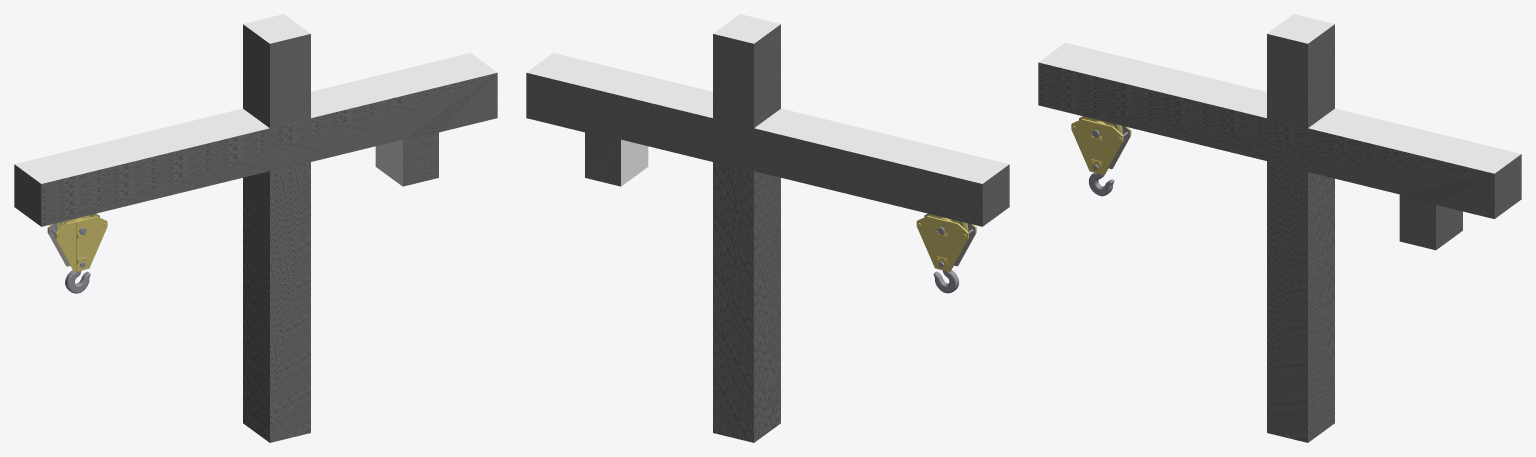
The model's file is CPT Crane.3ds.glb.
3 views of the same model, side by side, from view 1: azimuth 30°, elevation 25°; view 2: azimuth 150°, elevation 25°; view 3: azimuth 330°, elevation 25° (orthographic).
Parts seen in each view (by area): view 1: Model, Group5; view 2: Model, Group5; view 3: Model, Group5.
Boxes of the visible parts, x1,y1,x2,y2 form: Model: [14, 14, 497, 442]; Group5: [47, 215, 107, 271]; Model: [526, 14, 1009, 442]; Group5: [916, 214, 976, 271]; Model: [1038, 14, 1521, 442]; Group5: [1071, 117, 1131, 174].
Size of the model in its own units: 189 by 158 by 19.44.
Materials: 57 (1 with a texture image).
